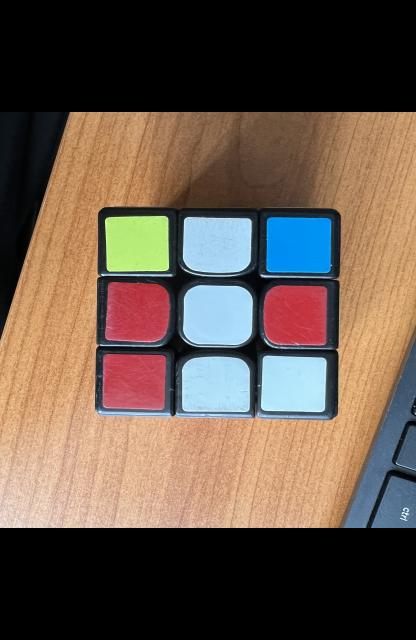Blue: (266, 217, 330, 273)
Red: (104, 282, 169, 343), (263, 285, 327, 345), (102, 354, 166, 410)
White: (182, 285, 252, 346), (182, 217, 250, 273), (180, 357, 249, 412), (259, 356, 326, 412)
Yellow: (104, 216, 168, 271)
